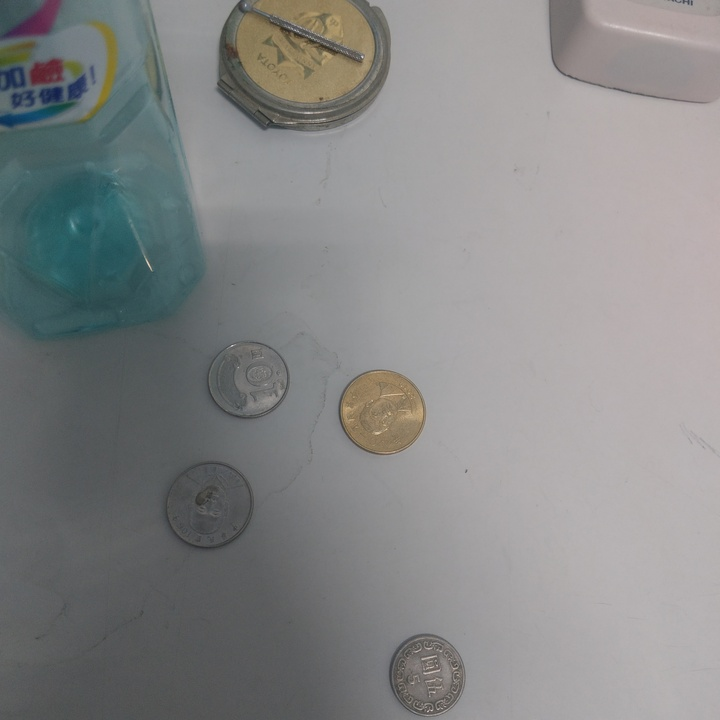10 dollar: (162, 461, 255, 550), (208, 339, 293, 422)
5 dollar: (389, 634, 466, 716)
50 dollar: (337, 371, 428, 455)
